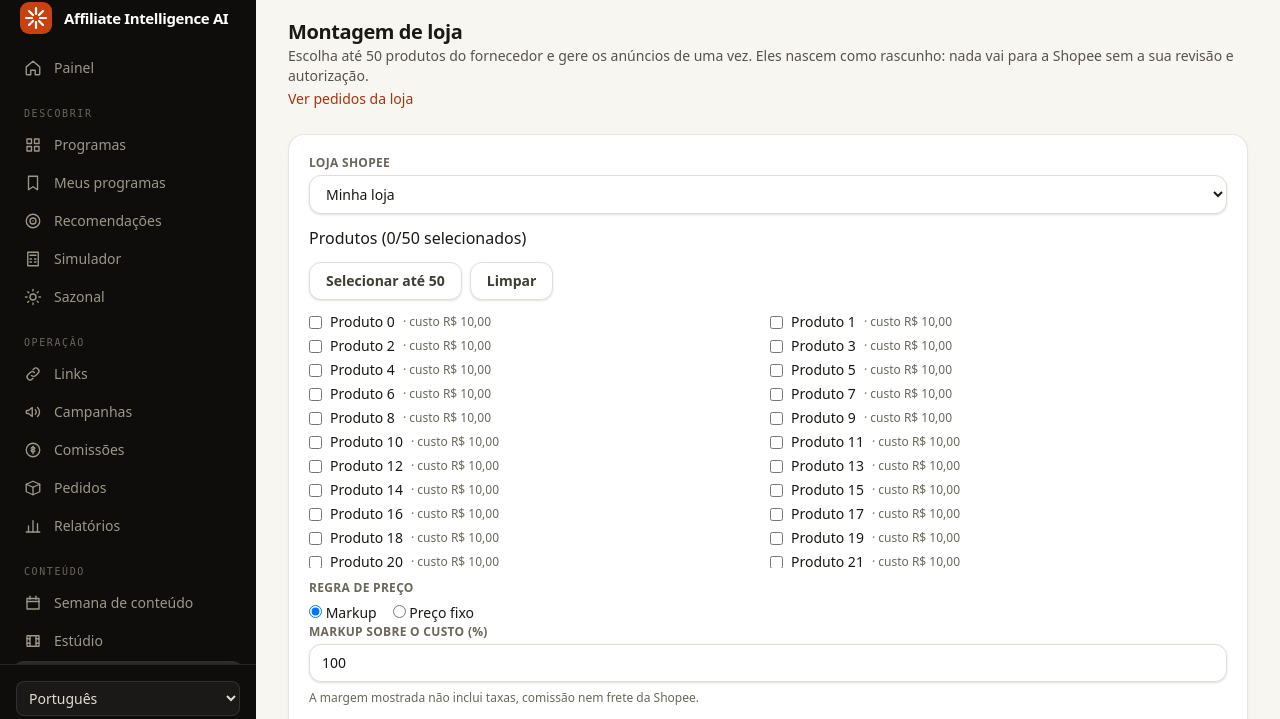
montagem de loja › seleciona no máximo 50 produtos e monta rascunhos sem publicar
Click the button "Selecionar até 50".
click(385, 281)  # box [309, 262, 462, 300]
(page scrolled)
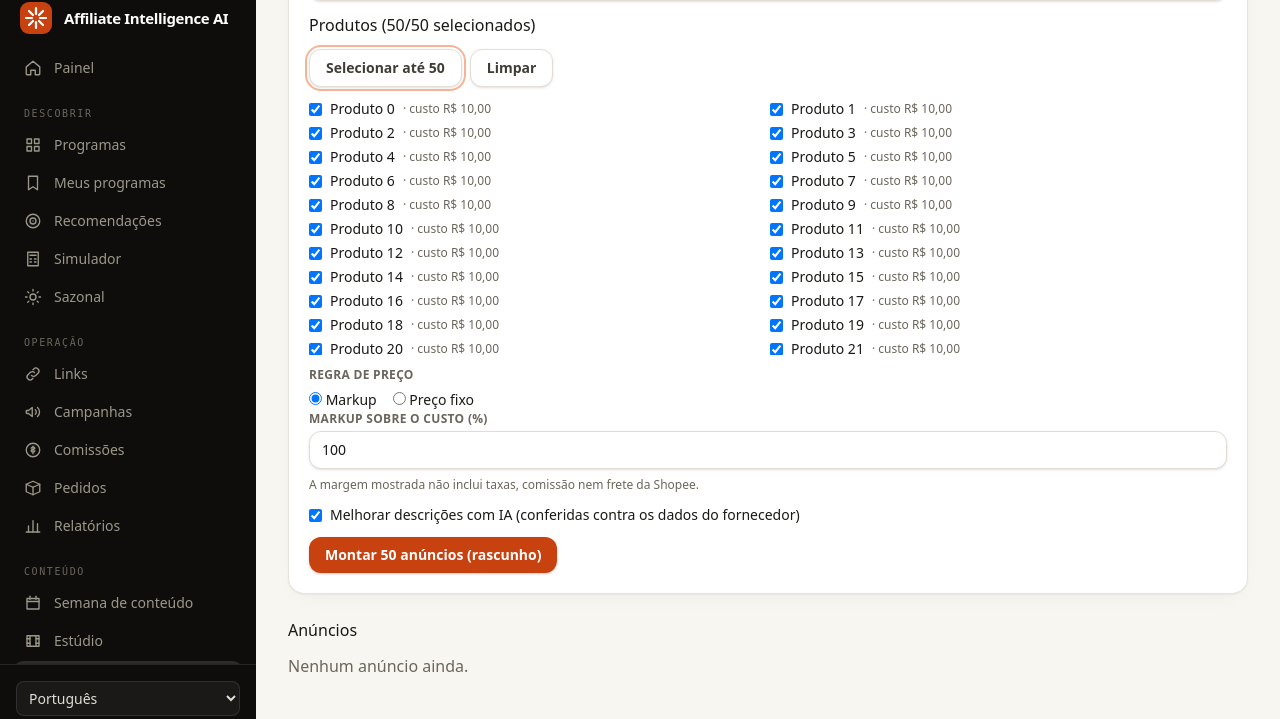
Expected: the heading "Produtos (50/50 selecionados)" is shown, [309, 14, 535, 36]
Click the button "Montar 50 anúncios (rascunho)".
click(433, 555)  # box [309, 537, 558, 573]
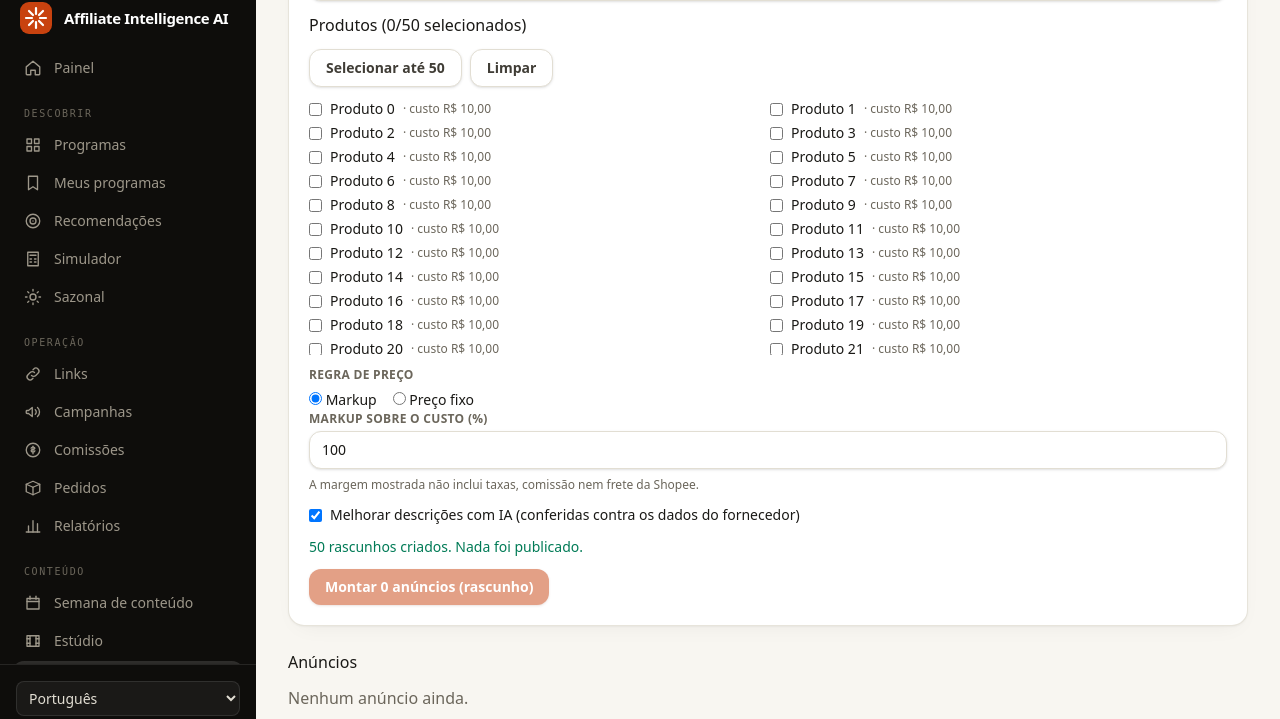
Expected: the text "50 rascunhos criados. Nada foi publicado." is shown, [309, 537, 583, 556]
